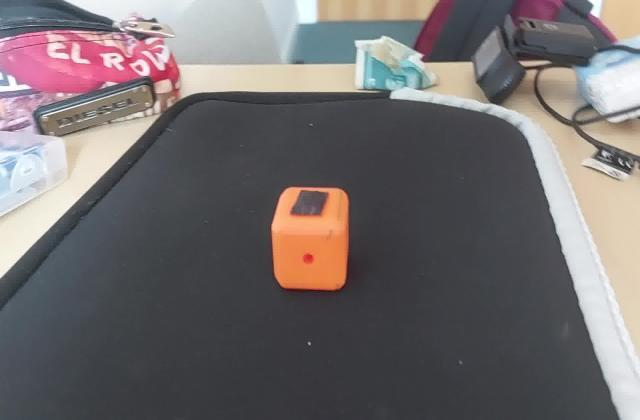black: (286, 189, 334, 220)
cube: (268, 184, 350, 296)
